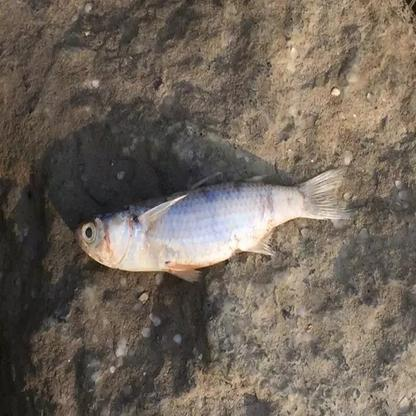deceased fish: (67, 157, 361, 286)
